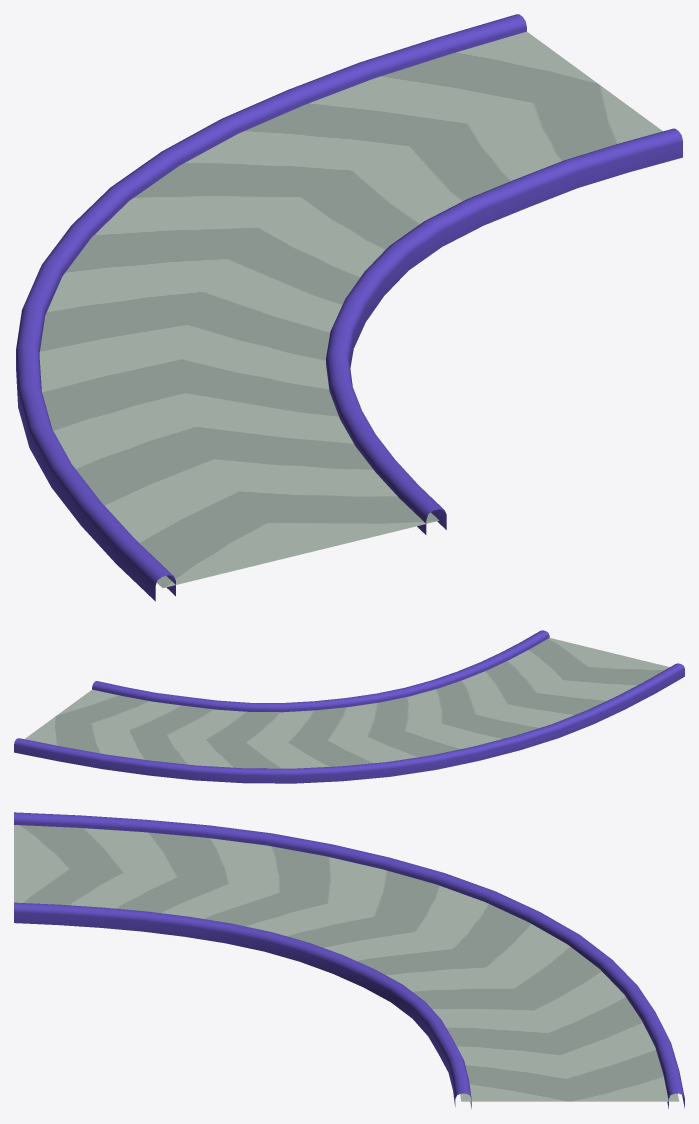
Rendered from Road2.fbx.
The picture shows the model from 3 angles, top to bottom: view 1: azimuth 30°, elevation 25°; view 2: azimuth 150°, elevation 25°; view 3: azimuth 270°, elevation 25°; orthographic projection. The views are drawn at different scales.
Visible parts, largest first — view 1: polySurface5, polySurface6; view 2: polySurface5, polySurface6; view 3: polySurface5, polySurface6.
Part boxes in pixels (x1=…): polySurface5: x1=39, y1=31, x2=662, y2=587; polySurface6: x1=16, y1=14, x2=682, y2=601; polySurface5: x1=24, y1=637, x2=669, y2=768; polySurface6: x1=14, y1=630, x2=684, y2=783; polySurface5: x1=14, y1=825, x2=679, y2=1101; polySurface6: x1=14, y1=812, x2=684, y2=1108.
Size of the model in its own units: 7681 by 200 by 7681.
